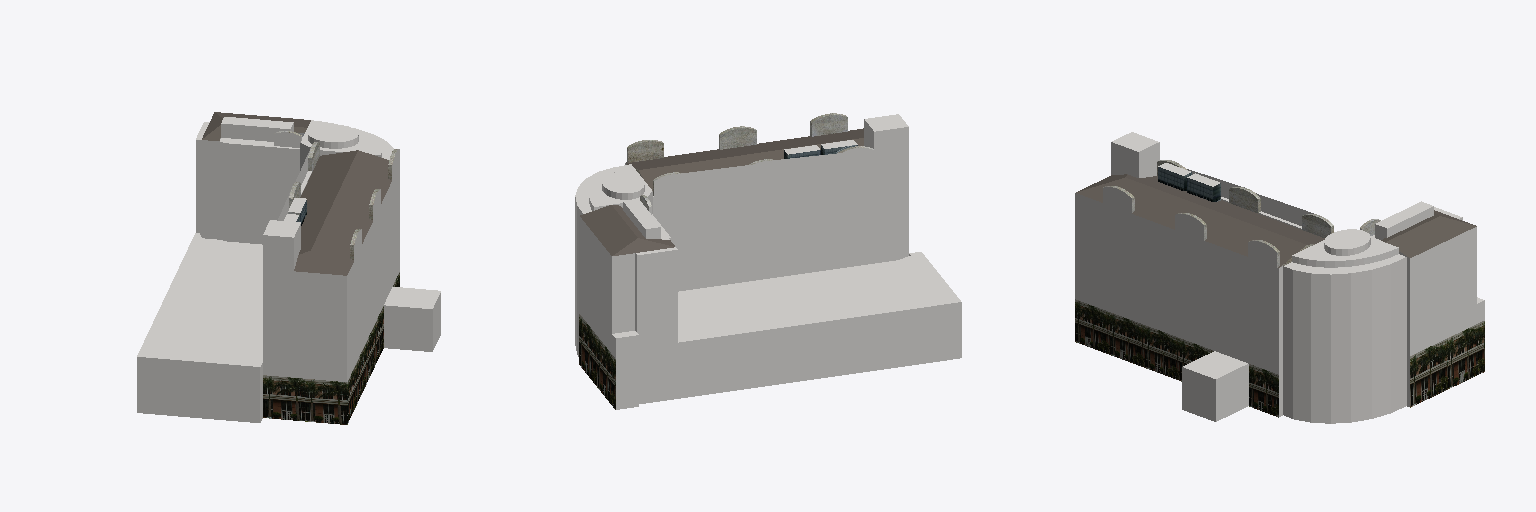
The picture shows the model from 3 angles: view 1: azimuth 30°, elevation 25°; view 2: azimuth 150°, elevation 25°; view 3: azimuth 270°, elevation 25°; orthographic projection.
Parts seen in each view (by area): view 1: Mesh1 Pack_Hyatt1 Model; view 2: Mesh1 Pack_Hyatt1 Model; view 3: Mesh1 Pack_Hyatt1 Model, Mesh4 Pack_Hyatt1 Model, Mesh3 Pack_Hyatt1 Model.
Part boxes in pixels (bbox=[...]): Mesh1 Pack_Hyatt1 Model: bbox=[137, 112, 440, 424]; Mesh1 Pack_Hyatt1 Model: bbox=[575, 113, 961, 409]; Mesh1 Pack_Hyatt1 Model: bbox=[1075, 132, 1484, 423]; Mesh4 Pack_Hyatt1 Model: bbox=[1187, 173, 1220, 201]; Mesh3 Pack_Hyatt1 Model: bbox=[1158, 163, 1191, 190].
Size of the model in its own units: 95.36 by 53.24 by 108.
Materials: 20 (18 with a texture image).